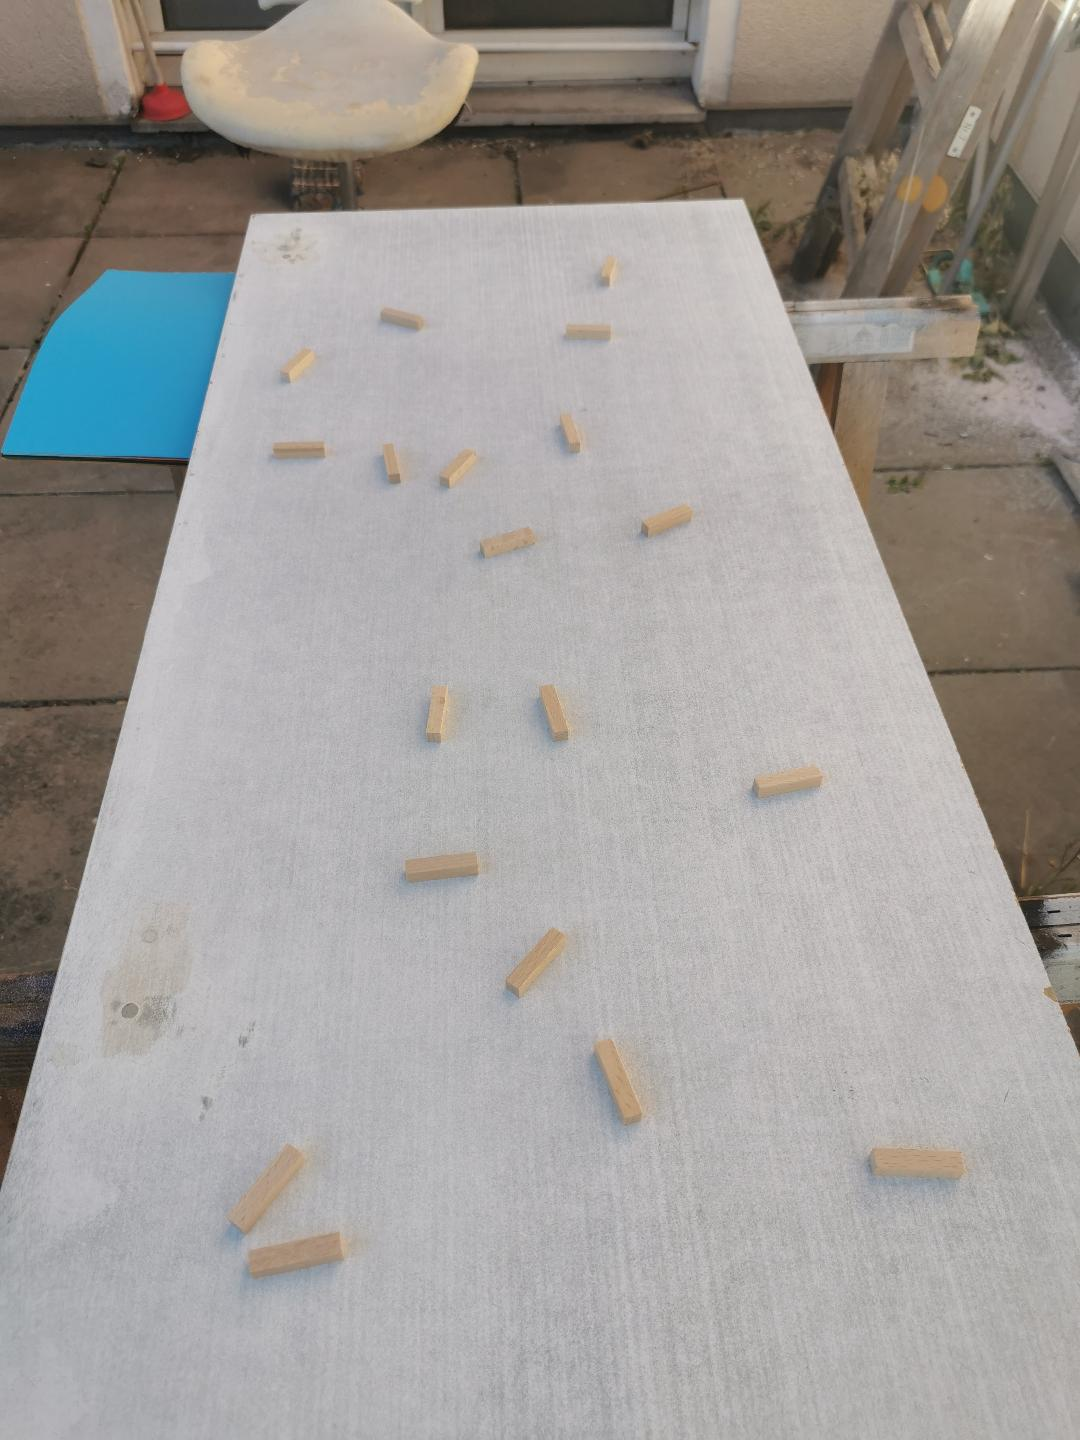jenga: (228, 1145, 306, 1231), (247, 1231, 346, 1277), (593, 1037, 641, 1125), (506, 929, 565, 996), (872, 1147, 964, 1178), (753, 765, 824, 798), (405, 853, 478, 883), (641, 503, 692, 537), (481, 526, 534, 557), (540, 684, 568, 739), (439, 450, 478, 486), (424, 686, 447, 743), (281, 349, 315, 382), (380, 306, 424, 329), (272, 441, 327, 458), (559, 414, 582, 452), (382, 444, 403, 484), (565, 323, 610, 340), (599, 256, 618, 287)
